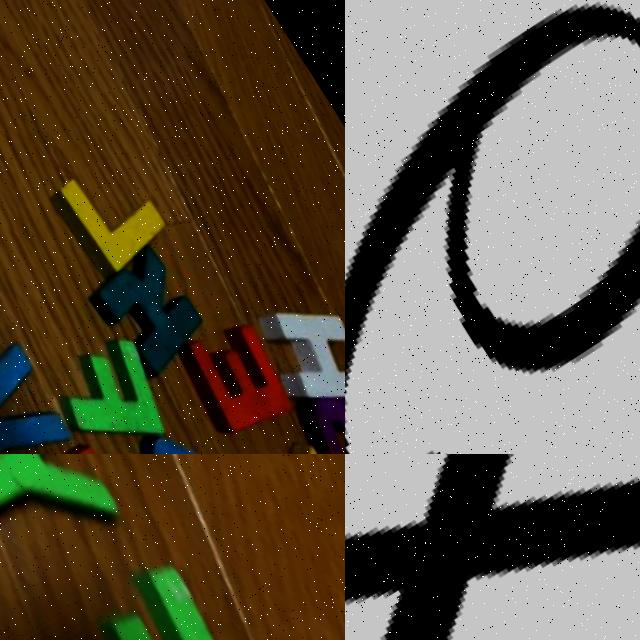9: (345, 0, 640, 454)
E: (169, 313, 305, 449)
F: (34, 540, 284, 640), (40, 321, 185, 454)
G: (290, 370, 345, 454)
H: (245, 278, 345, 430)
J: (128, 416, 255, 454)
K: (90, 248, 210, 372)
L: (50, 150, 188, 290)
V: (0, 323, 80, 454)
X: (345, 454, 640, 640), (237, 424, 345, 454)
Y: (0, 454, 134, 596)
